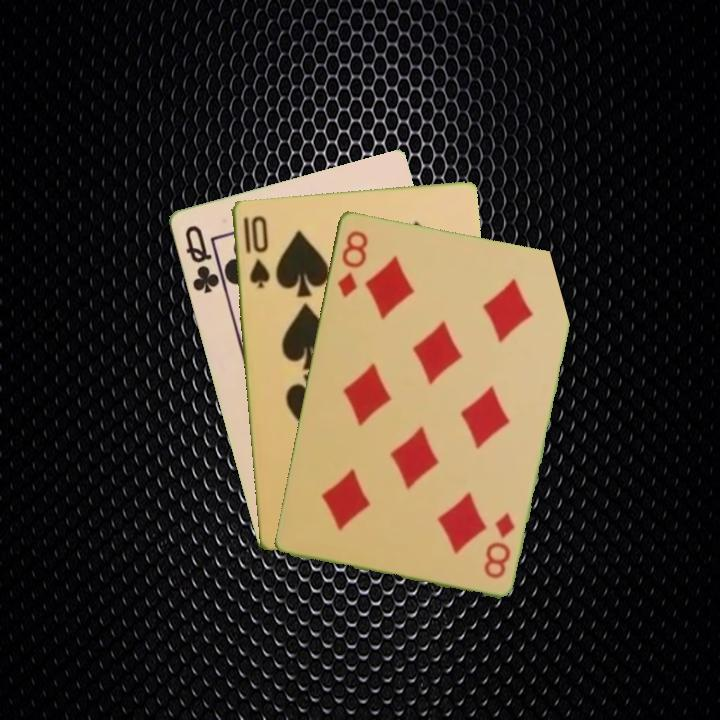10s: (239, 212, 272, 291)
8d: (333, 226, 371, 300), (481, 508, 518, 581)
Qc: (181, 221, 222, 297)
